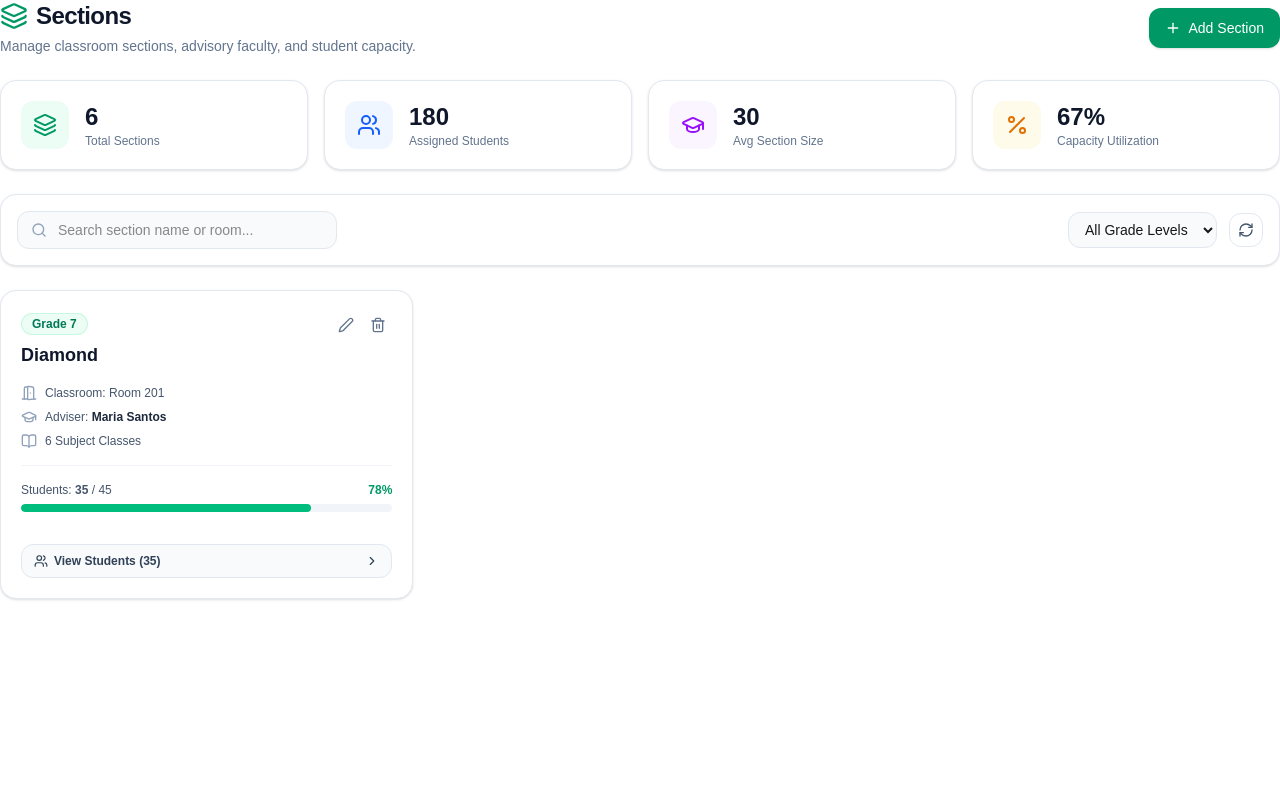
Test: SectionsPage › opens Students drawer when clicking View Students
Expected: the heading "Diamond" is shown, [21, 341, 98, 369]
Click the button "View Students (35)" at (99, 561), box [21, 544, 392, 578]
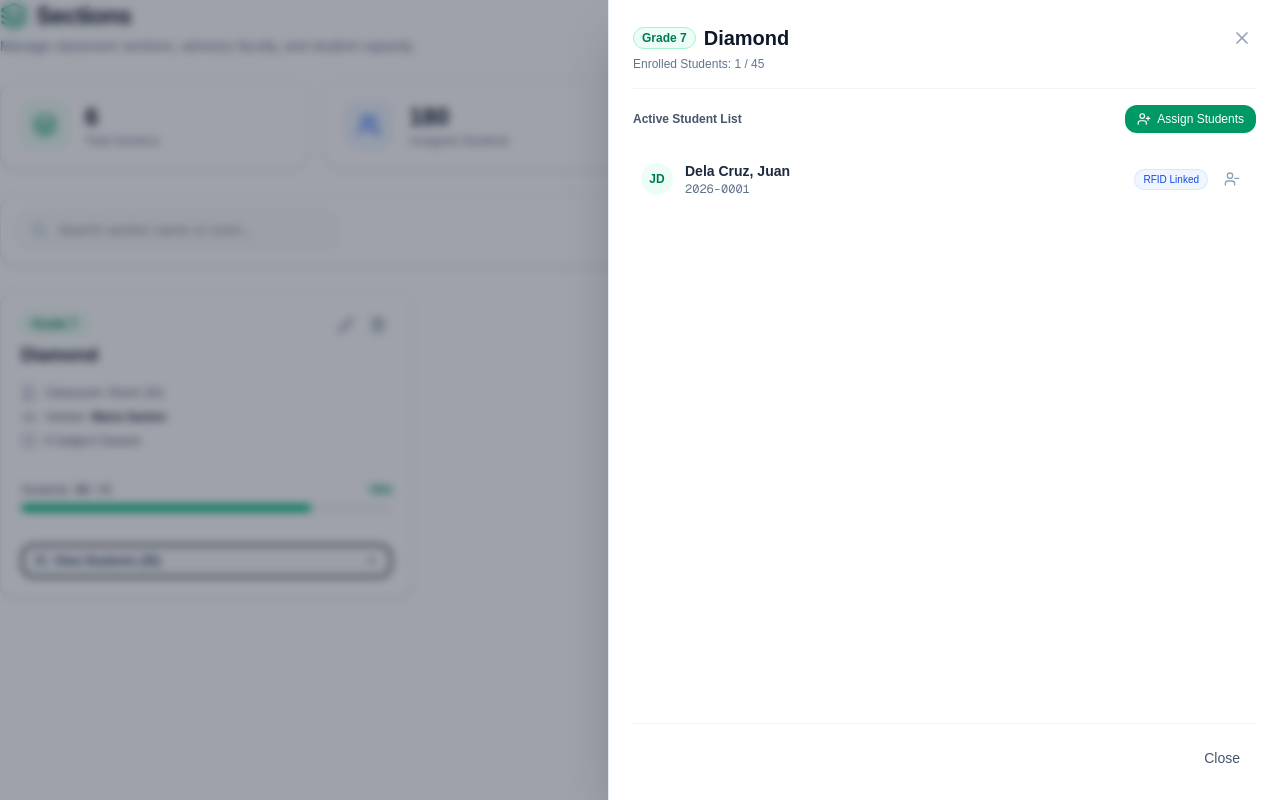
Result: the text "Dela Cruz, Juan" is shown at [685, 161, 790, 181]
